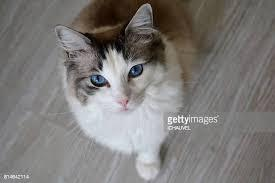ragdoll: (52, 1, 168, 120)
